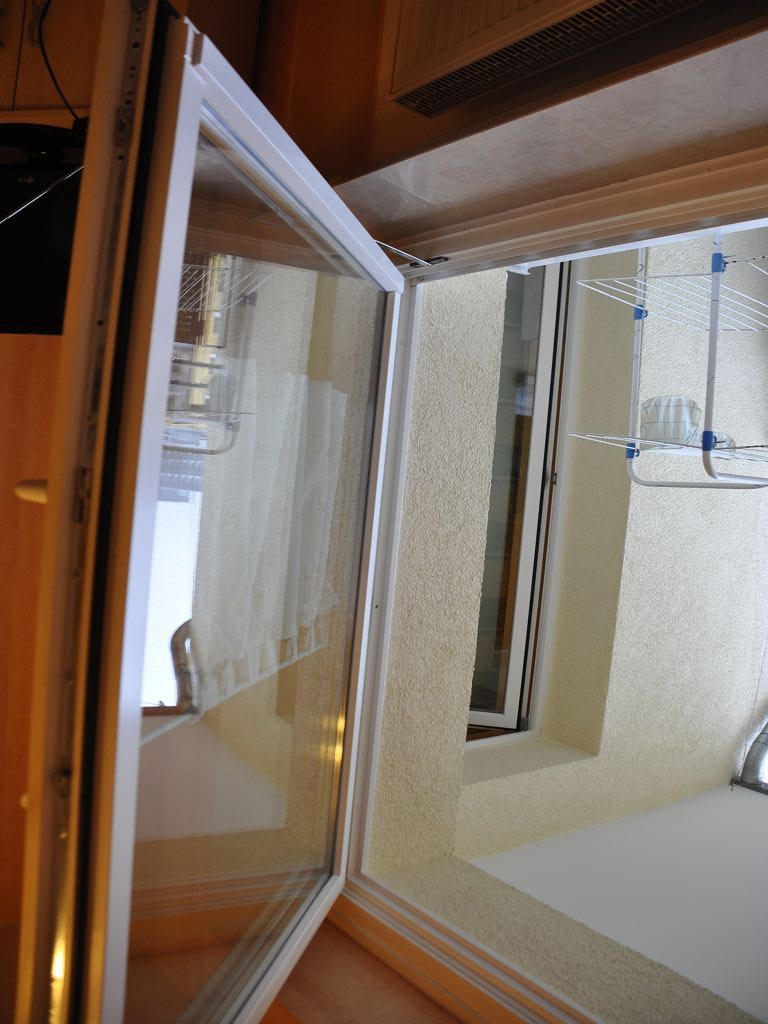windows: (76, 13, 402, 1023)
